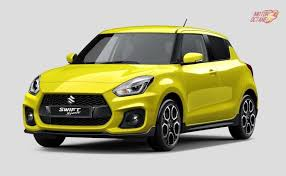Swift: (24, 20, 260, 150)
